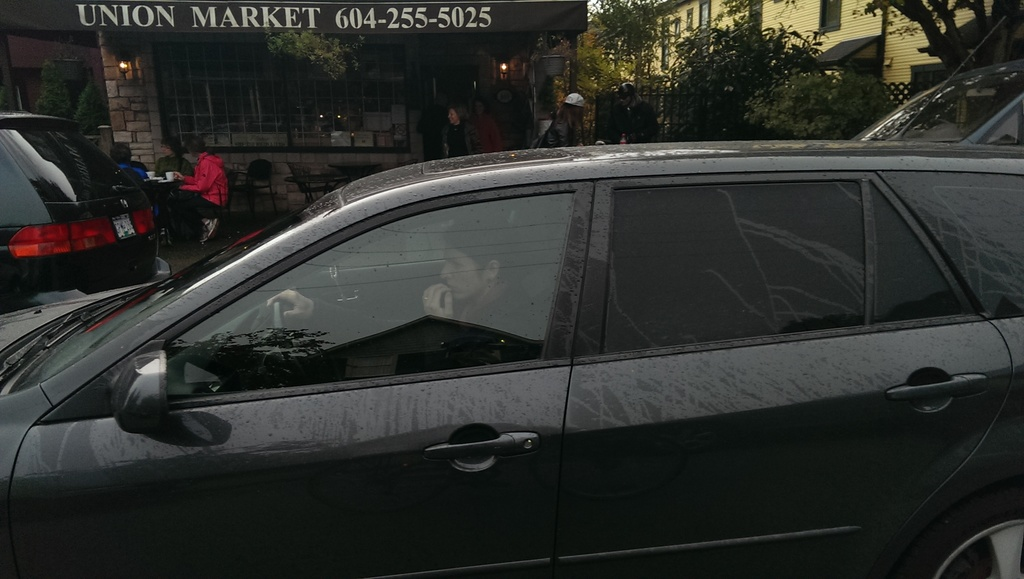Car: (0, 117, 1024, 564)
